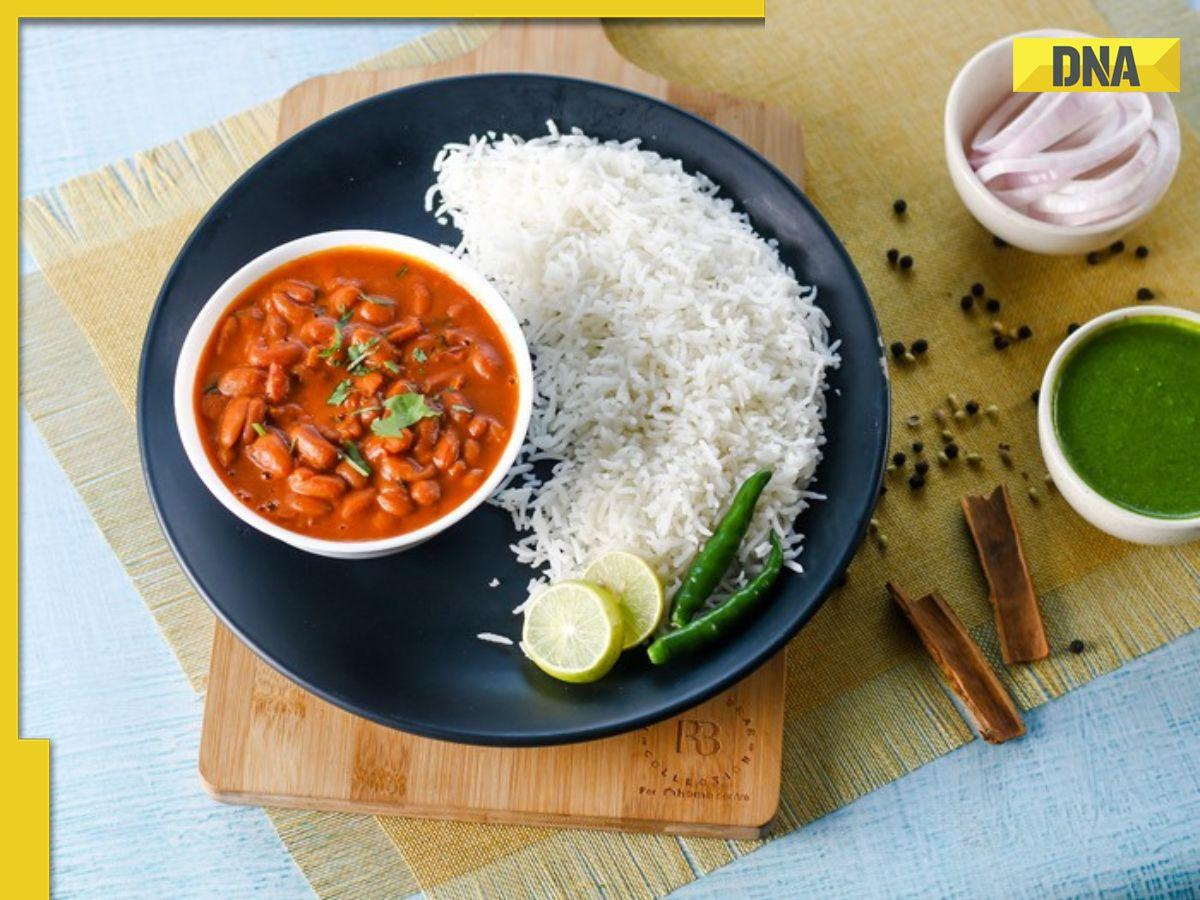rajma: (200, 258, 502, 575)
rice: (520, 160, 848, 615)
